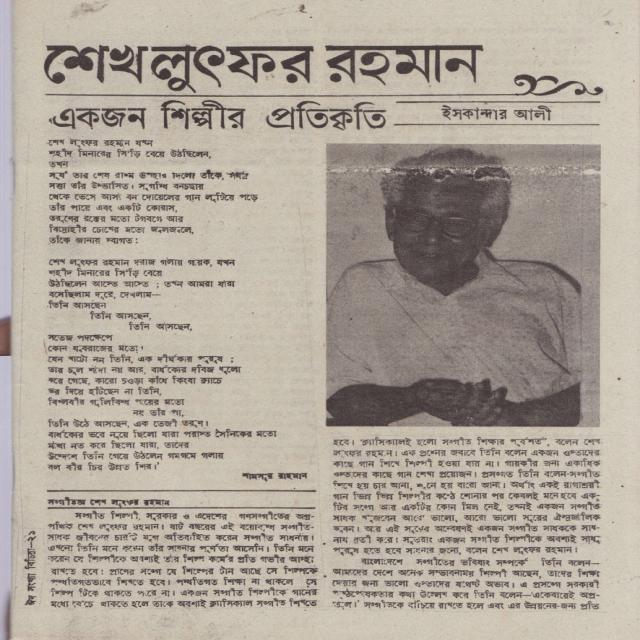image: (328, 145, 599, 426)
page number: (20, 526, 39, 544)
paragraph: (318, 433, 605, 558), (42, 330, 286, 474), (43, 509, 323, 613), (45, 137, 265, 247), (320, 555, 607, 612), (40, 255, 242, 335)
text: (422, 103, 563, 125), (233, 468, 315, 483), (20, 546, 38, 611)
title: (38, 36, 500, 138), (43, 492, 178, 508)
